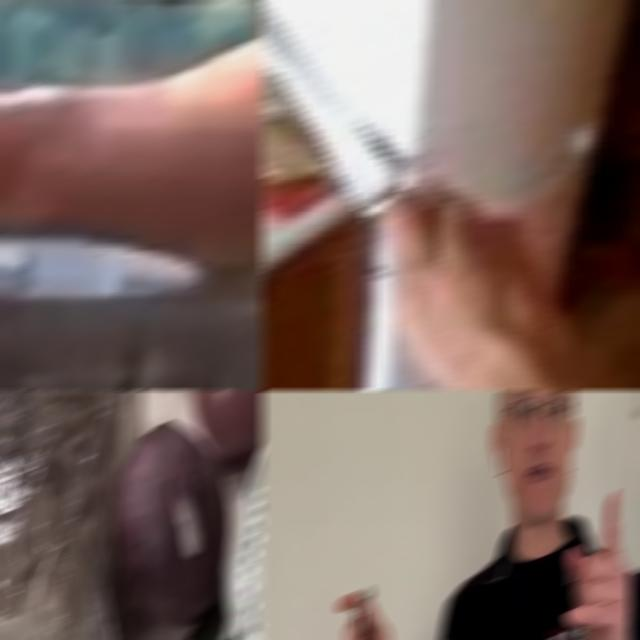Knife: (0, 231, 204, 295)
Knife_Handle: (260, 0, 572, 364), (0, 81, 210, 343), (336, 583, 382, 640)
